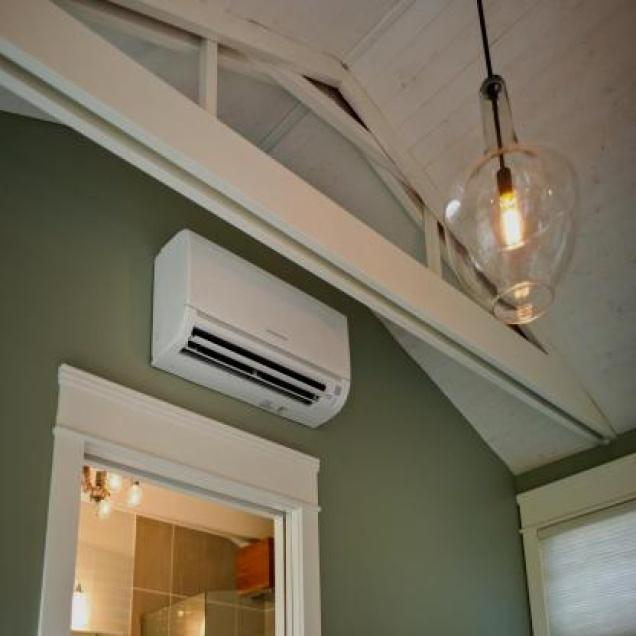AIO PC-Monitor-TV: (147, 226, 353, 429)
